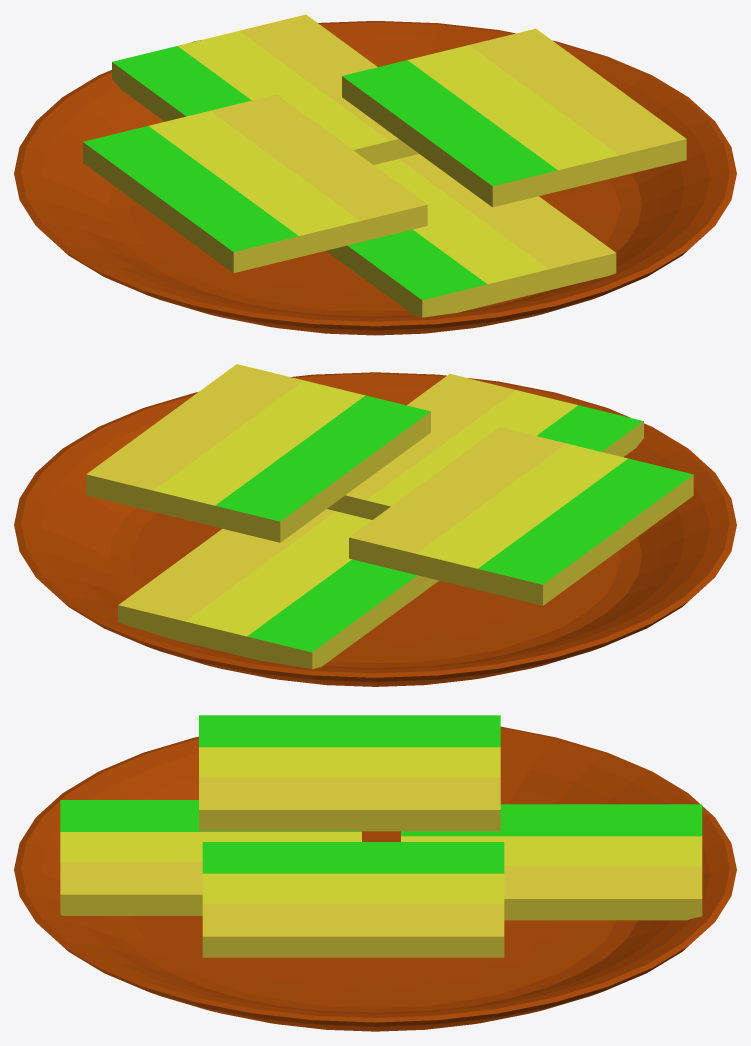
Rendered from AGAR BUSA BUSA.fbx.
The picture shows the model from 3 angles, top to bottom: view 1: azimuth 30°, elevation 25°; view 2: azimuth 150°, elevation 25°; view 3: azimuth 270°, elevation 25°; orthographic projection.
Parts seen in each view (by area): view 1: Cylinder, Cube.013, Cube.016, Cube.011, Cube.014, Cube.015, Cube.012, Cube.010, Cube.009, Cube.003, Cube.007, Cube.008 (+5 smaller); view 2: Cylinder, Cube.013, Cube.016, Cube.011, Cube.014, Cube.015, Cube.012, Cube.003, Cube.010, Cube.009, Cube.004, Cube.002 (+5 smaller); view 3: Cylinder, Cube.016, Cube.011, Cube.013, Cube.014, Cube.015, Cube.012, Cube.002, Cube.003, Cube.009, Cube.010, Cube.004 (+5 smaller).
Boxes of the visible parts, x1,y1,x2,y2 form: Cylinder: [14, 21, 736, 335]; Cube.013: [210, 94, 427, 220]; Cube.016: [469, 28, 686, 154]; Cube.011: [83, 126, 298, 251]; Cube.014: [342, 60, 557, 186]; Cube.015: [407, 45, 619, 170]; Cube.012: [148, 111, 360, 235]; Cube.010: [83, 142, 427, 273]; Cube.009: [342, 76, 686, 207]; Cube.003: [178, 31, 389, 149]; Cube.007: [374, 159, 548, 284]; Cube.008: [399, 154, 615, 268]; Cylinder: [14, 372, 736, 686]; Cube.013: [349, 427, 566, 553]; Cube.016: [86, 364, 303, 490]; Cube.011: [478, 458, 693, 584]; Cube.014: [215, 395, 430, 521]; Cube.015: [153, 380, 365, 505]; Cube.012: [416, 443, 627, 568]; Cube.003: [185, 511, 372, 636]; Cube.010: [349, 475, 693, 605]; Cube.009: [86, 411, 430, 542]; Cube.004: [118, 509, 335, 621]; Cube.002: [247, 559, 417, 652]; Cylinder: [14, 726, 736, 1031]; Cube.016: [202, 904, 504, 936]; Cube.011: [199, 715, 500, 747]; Cube.013: [199, 777, 500, 809]; Cube.014: [202, 842, 504, 873]; Cube.015: [202, 873, 504, 903]; Cube.012: [199, 747, 500, 777]; Cube.002: [401, 804, 702, 836]; Cube.003: [401, 836, 702, 866]; Cube.009: [202, 936, 504, 957]; Cube.010: [199, 810, 500, 831]; Cube.004: [504, 866, 702, 898].
Bounding box in the file's own units: 231 × 31.81 × 231.
